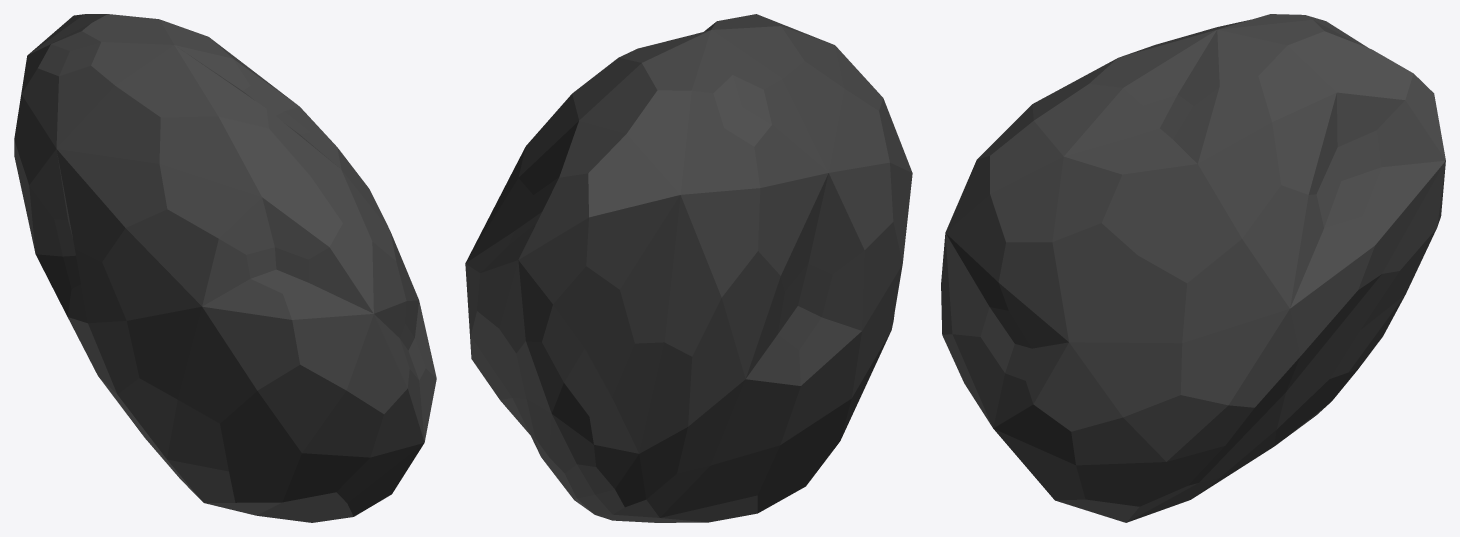
File: Asteroid.006.glb
3 renders of one model, left to right at view 1: azimuth 30°, elevation 25°; view 2: azimuth 150°, elevation 25°; view 3: azimuth 270°, elevation 25°, orthographic. The views are drawn at different scales.
Visible parts, largest first — view 1: Asteroid.006; view 2: Asteroid.006; view 3: Asteroid.006.
Boxes of the visible parts, bbox=[...] form: Asteroid.006: bbox=[14, 14, 436, 522]; Asteroid.006: bbox=[465, 14, 912, 522]; Asteroid.006: bbox=[941, 14, 1445, 522].
Size of the model in its own units: 8.06 by 11.29 by 11.75.
1 material, 1 textured.
